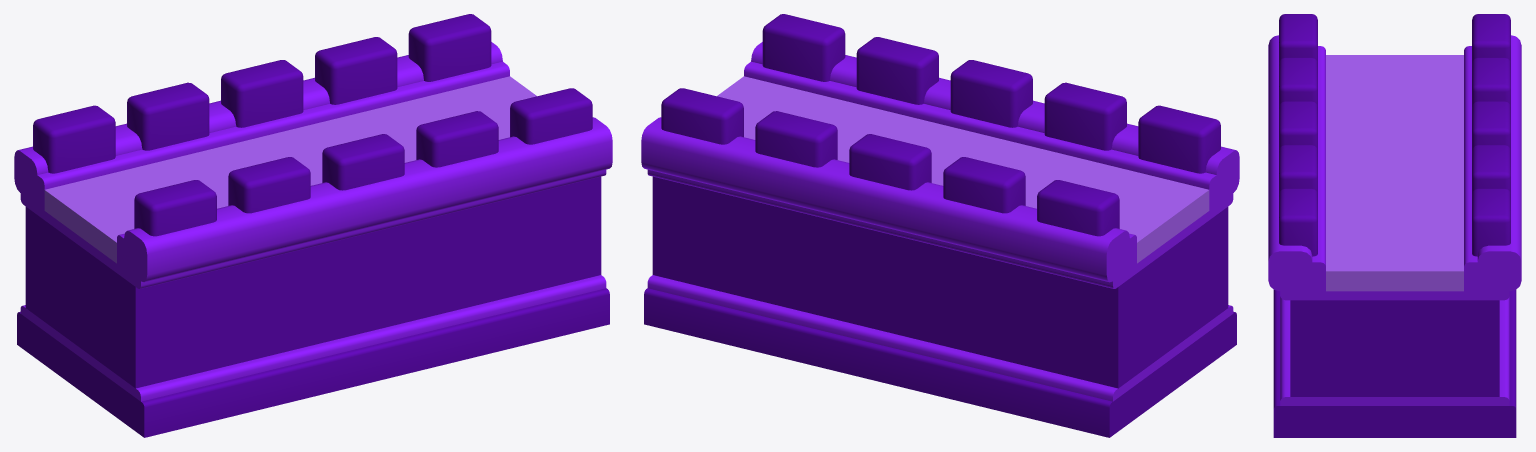
Rendered from Thick wall straight (regular height).fbx.
3 renders of one model, left to right at view 1: azimuth 30°, elevation 25°; view 2: azimuth 150°, elevation 25°; view 3: azimuth 270°, elevation 25°, orthographic. The views are drawn at different scales.
Parts seen in each view (by area): view 1: Plane.054; view 2: Plane.054; view 3: Plane.054.
Boxes of the visible parts, x1,y1,x2,y2 form: Plane.054: (14,14,612,437); Plane.054: (641,14,1239,437); Plane.054: (1268,14,1521,437).
Size of the model in its own units: 99.94 by 46.26 by 49.41.
1 material, 1 textured.
